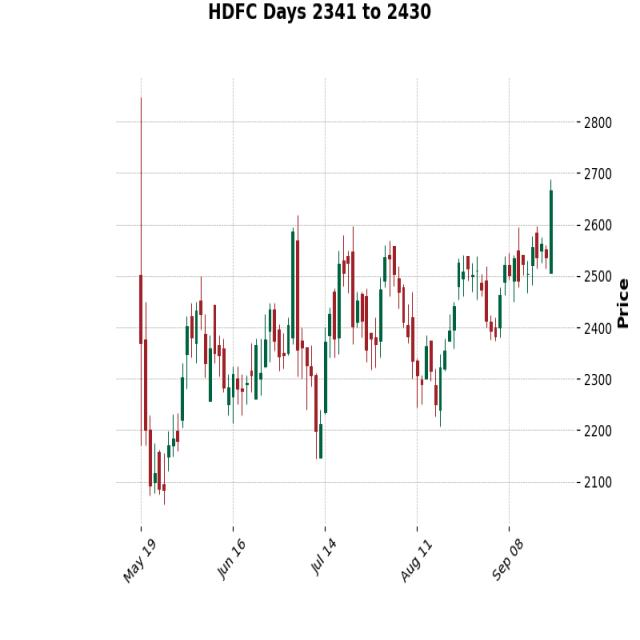Ascending Triangle: (440, 230, 543, 415)
